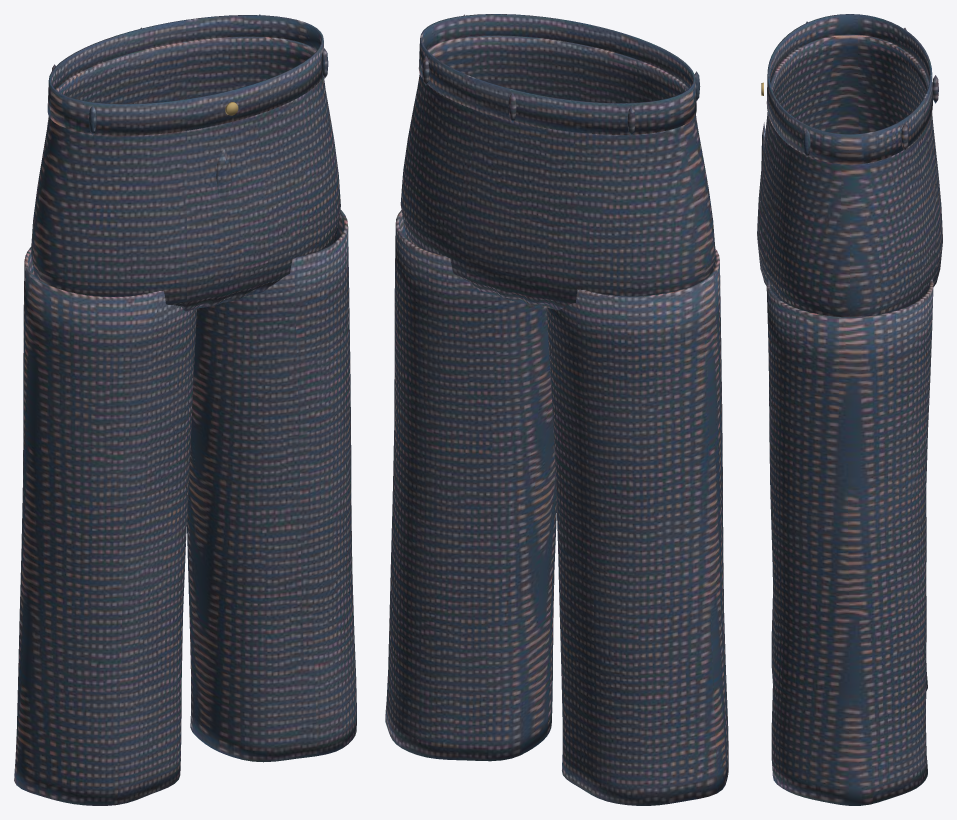
The model's file is crash_kantha_trouser.glb.
3 views of the same model, side by side, from view 1: azimuth 30°, elevation 25°; view 2: azimuth 150°, elevation 25°; view 3: azimuth 270°, elevation 25° (orthographic). The views are drawn at different scales.
Parts seen in each view (by area): view 1: CrashKanthaDenimTrouserMesh; view 2: CrashKanthaDenimTrouserMesh; view 3: CrashKanthaDenimTrouserMesh.
Part boxes in pixels (<box>): CrashKanthaDenimTrouserMesh: <box>14,14,356,805</box>; CrashKanthaDenimTrouserMesh: <box>385,14,728,805</box>; CrashKanthaDenimTrouserMesh: <box>757,14,942,805</box>.
Bounding box in the file's own units: 0.531 × 1.06 × 0.2732.
2 materials, 1 textured.
